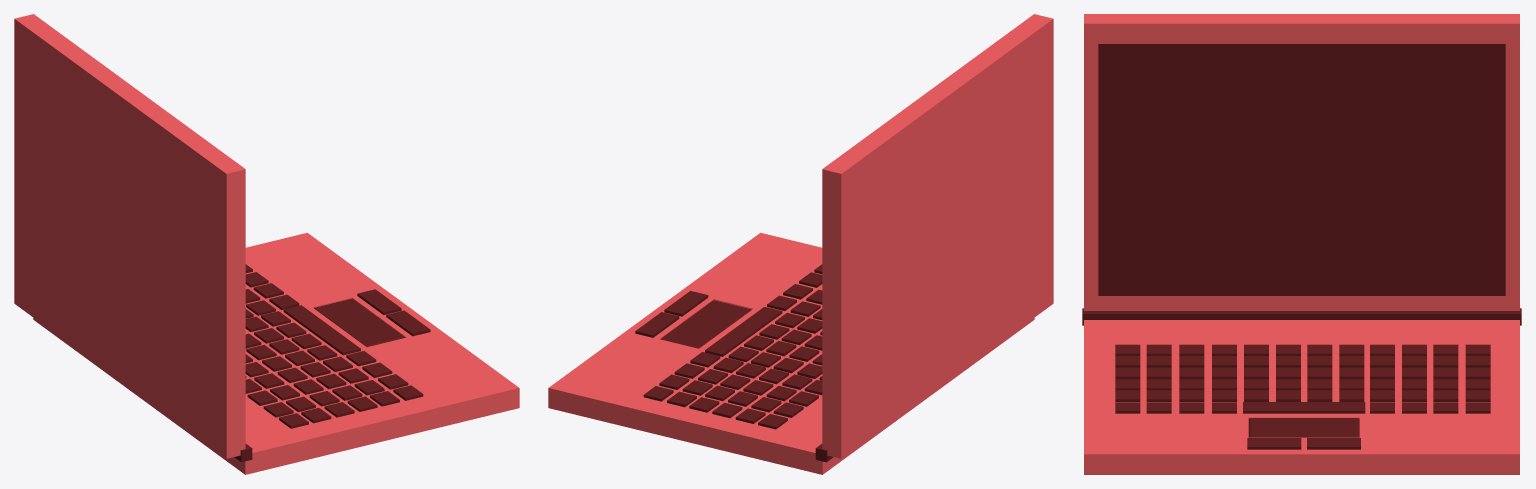
File: low_poly_laptop.glb
3 renders of one model, left to right at view 1: azimuth 30°, elevation 25°; view 2: azimuth 150°, elevation 25°; view 3: azimuth 270°, elevation 25°, orthographic. The views are drawn at different scales.
Visible parts, largest first — view 1: Cube.002, Cube.001; view 2: Cube.002, Cube.001; view 3: Cube.002, Cube.001.
Part boxes in pixels (<box>): Cube.002: <box>14,14,245,458</box>; Cube.001: <box>33,232,519,474</box>; Cube.002: <box>822,14,1053,458</box>; Cube.001: <box>548,232,1034,474</box>; Cube.002: <box>1084,14,1519,310</box>; Cube.001: <box>1082,308,1521,474</box>.
Bounding box in the file's own units: 15.17 × 15.13 × 19.18.
